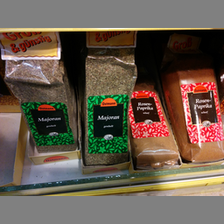spices: (82, 33, 136, 166), (4, 58, 78, 151), (165, 51, 224, 163), (130, 77, 180, 166)
